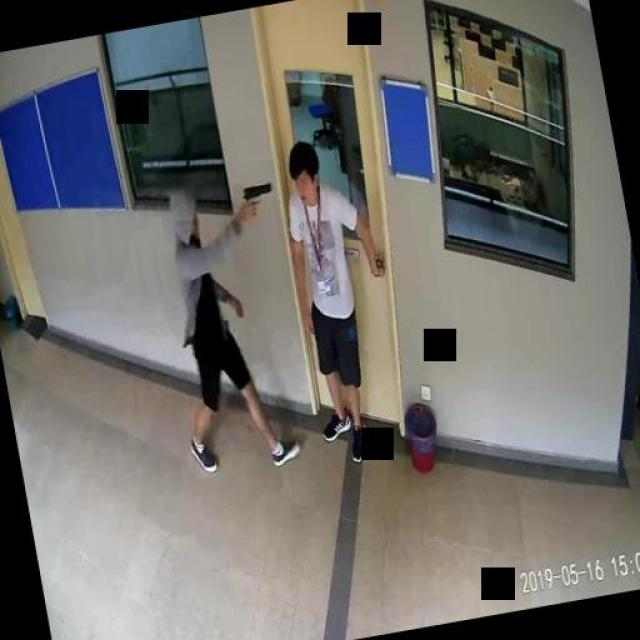gun: (241, 180, 275, 219)
